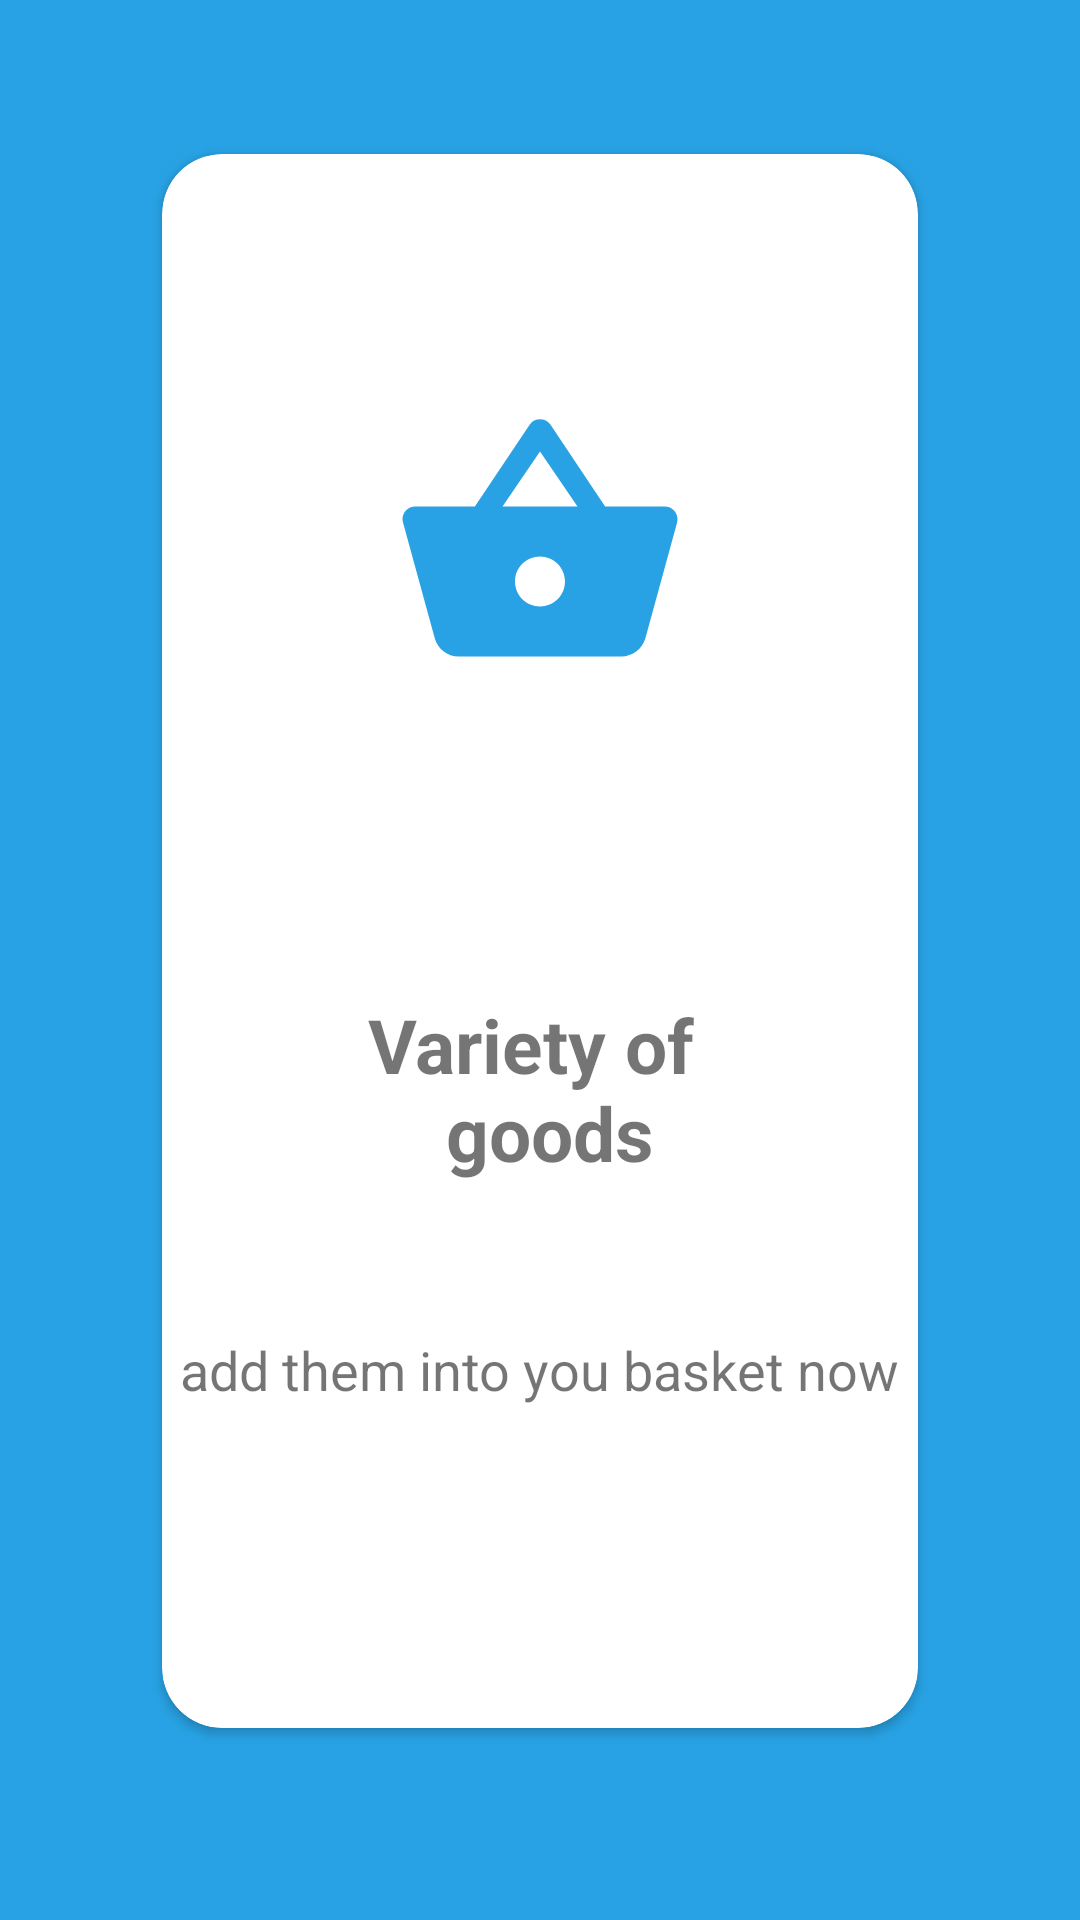

Point at icon controls on the screen. Image size 1080 x 1920, points as [x,y].
shopping basket: [540,538]
